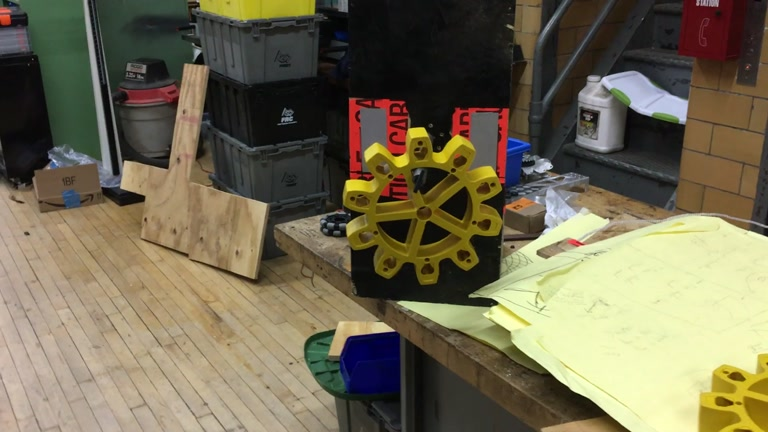gear: (340, 125, 503, 285), (698, 348, 767, 432)
